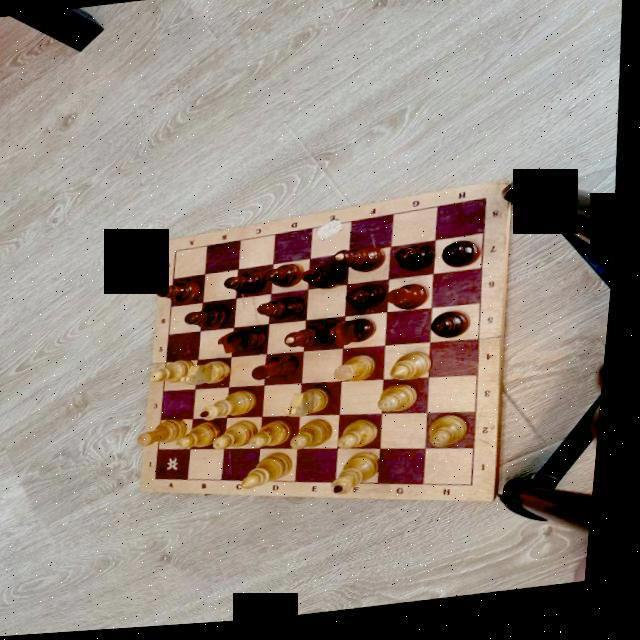chess-table-corners: (474, 486, 486, 498), (484, 199, 496, 209), (175, 248, 187, 258), (160, 475, 170, 486)
